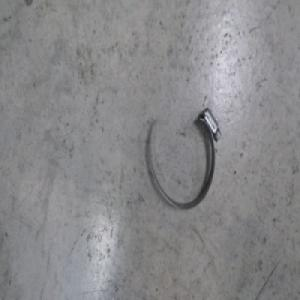AdjustableClamp: (144, 105, 220, 213)
